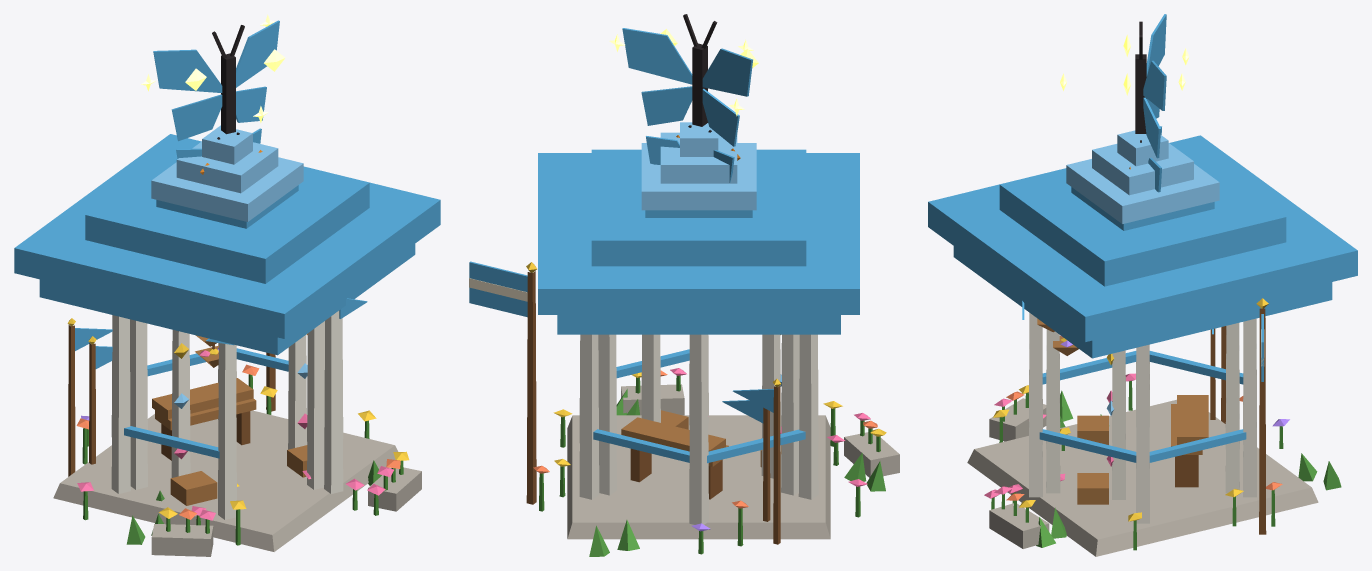
Rendered from butterfly-garden-pavilion-blocky.glb.
3 renders of one model, left to right at view 1: azimuth 30°, elevation 25°; view 2: azimuth 150°, elevation 25°; view 3: azimuth 270°, elevation 25°, orthographic. The views are drawn at different scales.
Parts seen in each view (by area): view 1: lv3, lv2, lv1; view 2: lv3, lv2, lv1; view 3: lv3, lv2, lv1.
Part boxes in pixels (x1,y1,x2,y2): lv3: [14, 14, 440, 556]; lv2: [39, 128, 415, 535]; lv1: [155, 330, 311, 505]; lv3: [469, 14, 899, 556]; lv2: [554, 125, 866, 550]; lv1: [630, 334, 781, 499]; lv3: [928, 14, 1357, 556]; lv2: [953, 126, 1332, 538]; lv1: [1060, 350, 1202, 504].
Bounding box in the file's own units: 2.16 × 2.53 × 2.16.
